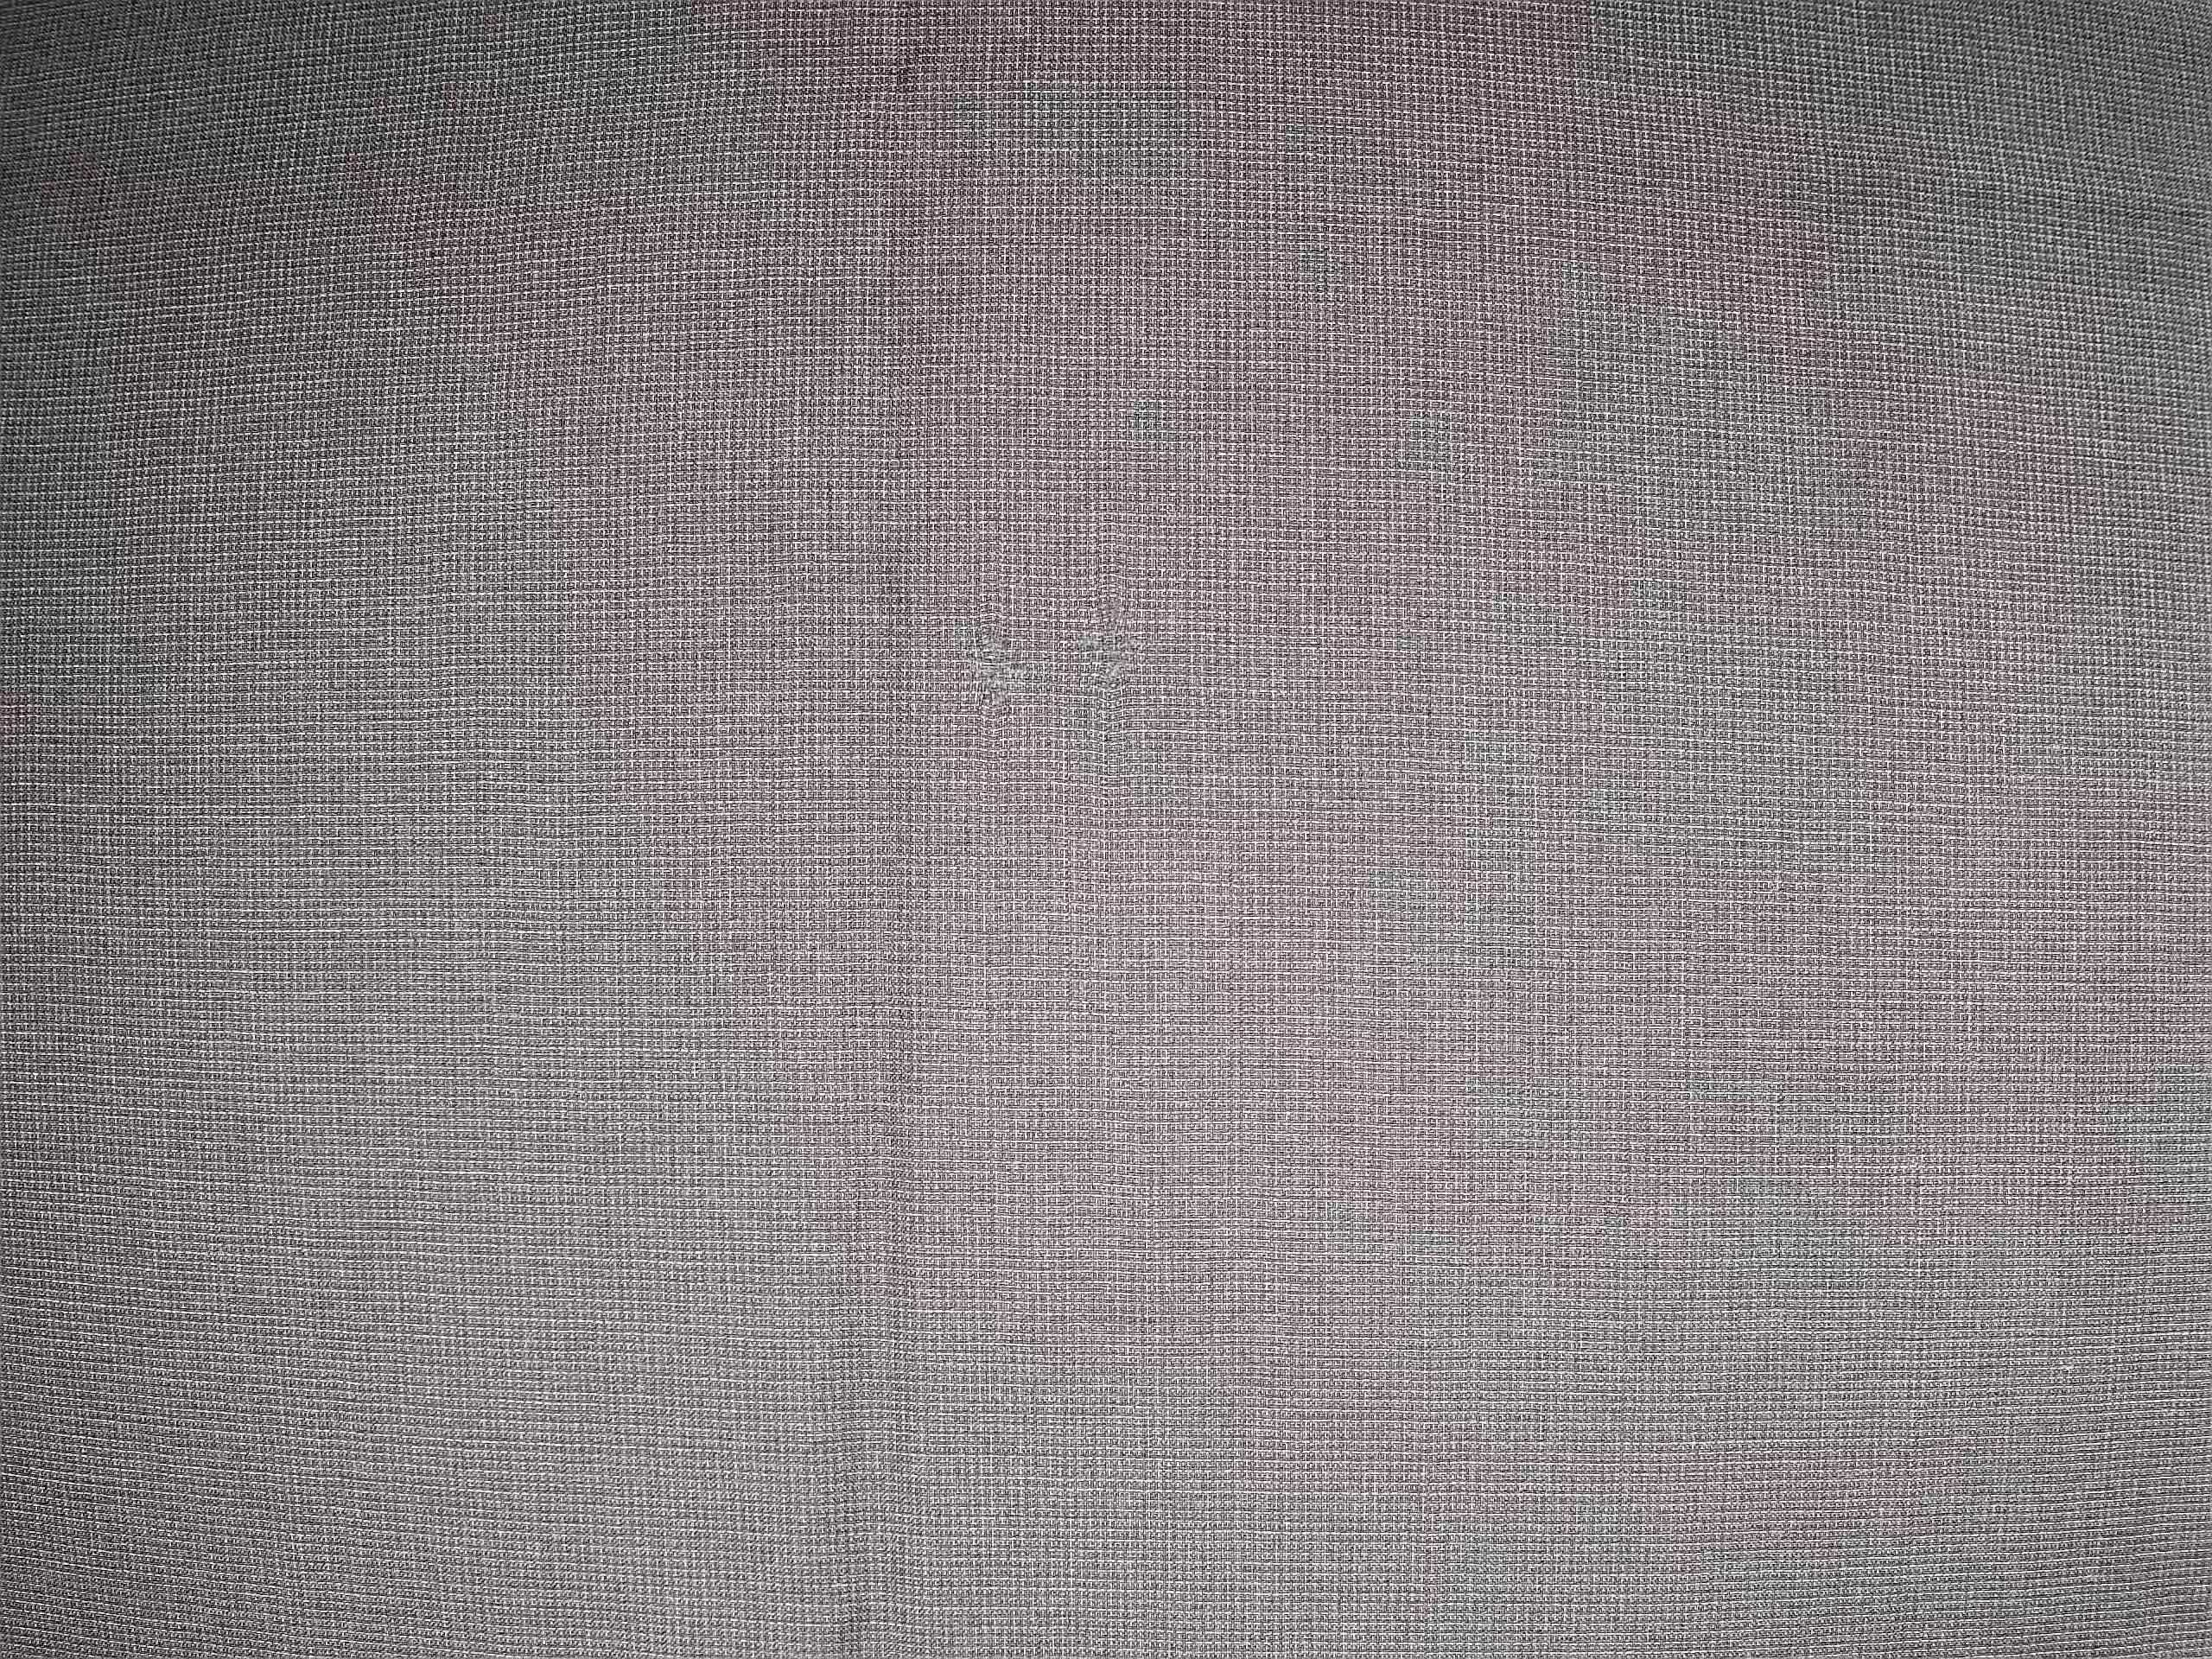knots: (934, 570, 1177, 755)
